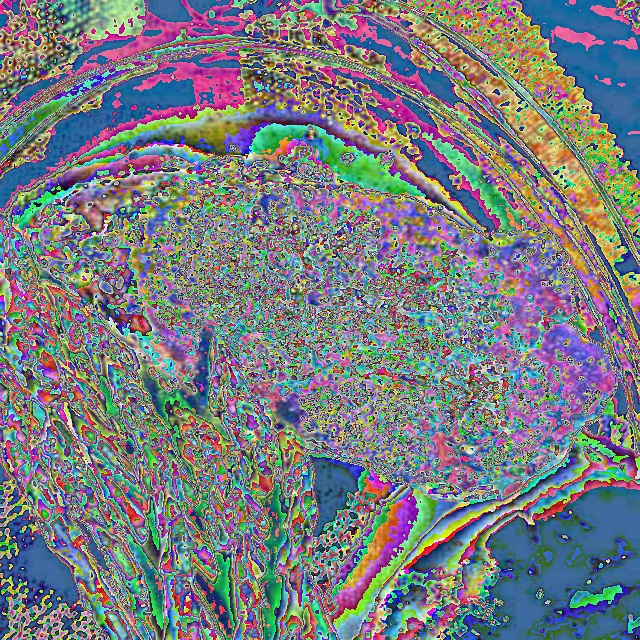background: (0, 157, 640, 639)
